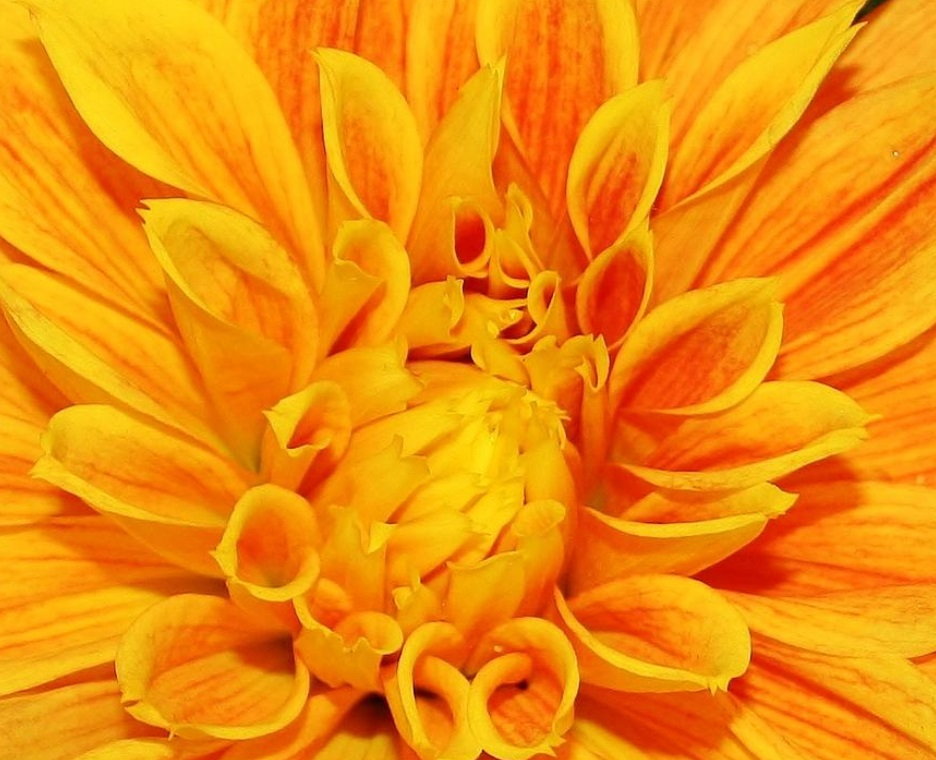Yellow: (15, 12, 924, 748)
